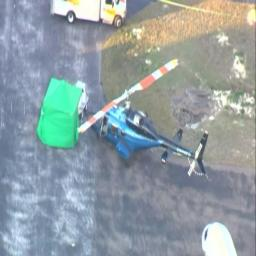helicopter: (73, 61, 215, 188)
